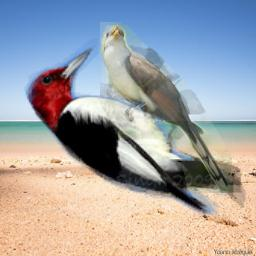Cuckoo: (100, 22, 232, 193)
Woodpecker: (3, 38, 252, 225)
